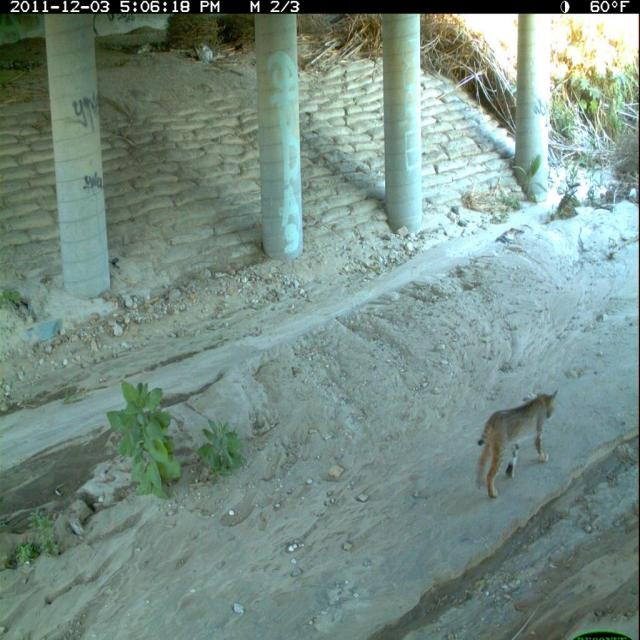bobcat: (473, 385, 562, 503)
